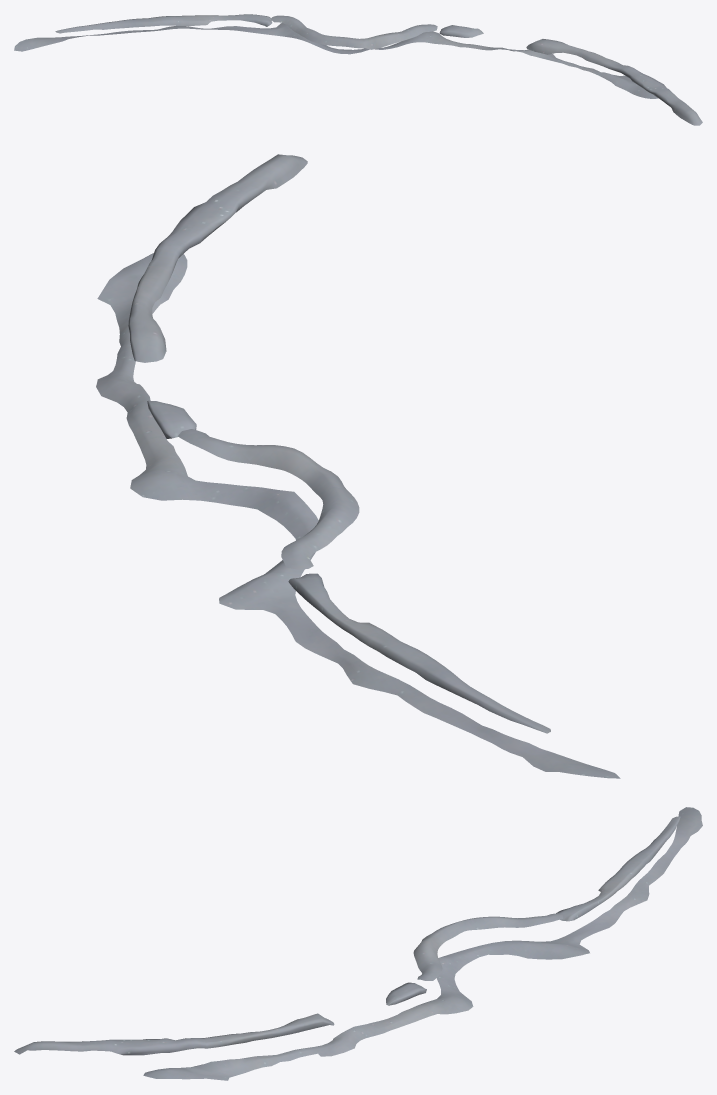
File: pref_sm_beach_winter_snowout04a_lv3.fbx
The picture shows the model from 3 angles, top to bottom: view 1: azimuth 30°, elevation 25°; view 2: azimuth 150°, elevation 25°; view 3: azimuth 270°, elevation 25°; orthographic projection. The views are drawn at different scales.
Parts seen in each view (by area): view 1: pref_sm_beach_winter_snowout04a_lv3; view 2: pref_sm_beach_winter_snowout04a_lv3; view 3: pref_sm_beach_winter_snowout04a_lv3.
Part boxes in pixels (left/top/right/bottom): pref_sm_beach_winter_snowout04a_lv3: left=14, top=14, right=702, bottom=125; pref_sm_beach_winter_snowout04a_lv3: left=96, top=154, right=620, bottom=778; pref_sm_beach_winter_snowout04a_lv3: left=14, top=807, right=702, bottom=1080.
Size of the model in its own units: 31.99 by 1.79 by 33.66.
